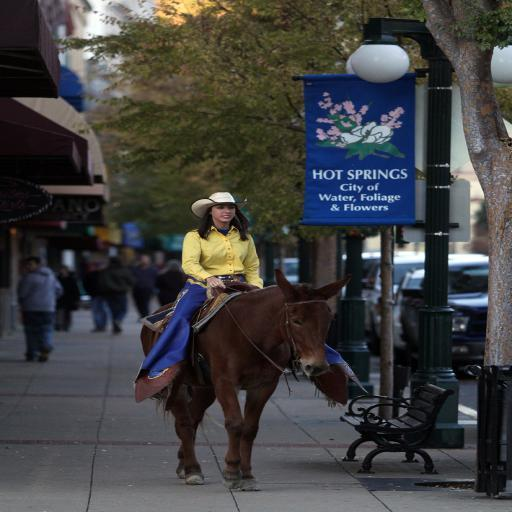horse: (141, 268, 350, 492)
